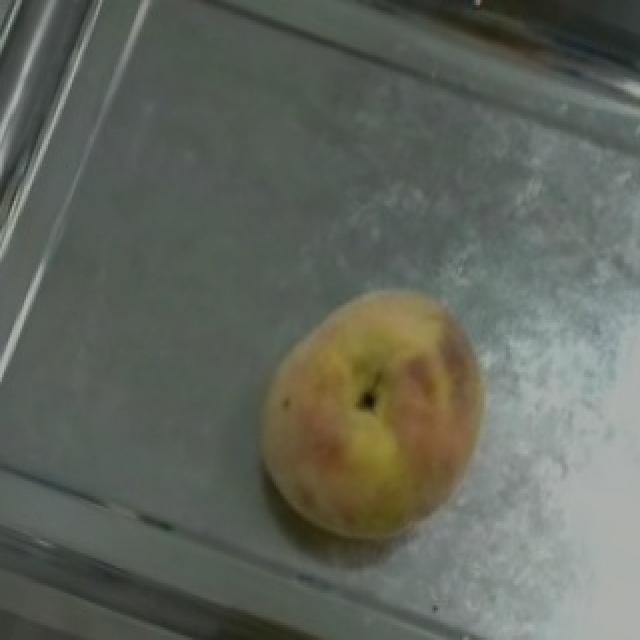Fruit: (206, 251, 528, 578)
